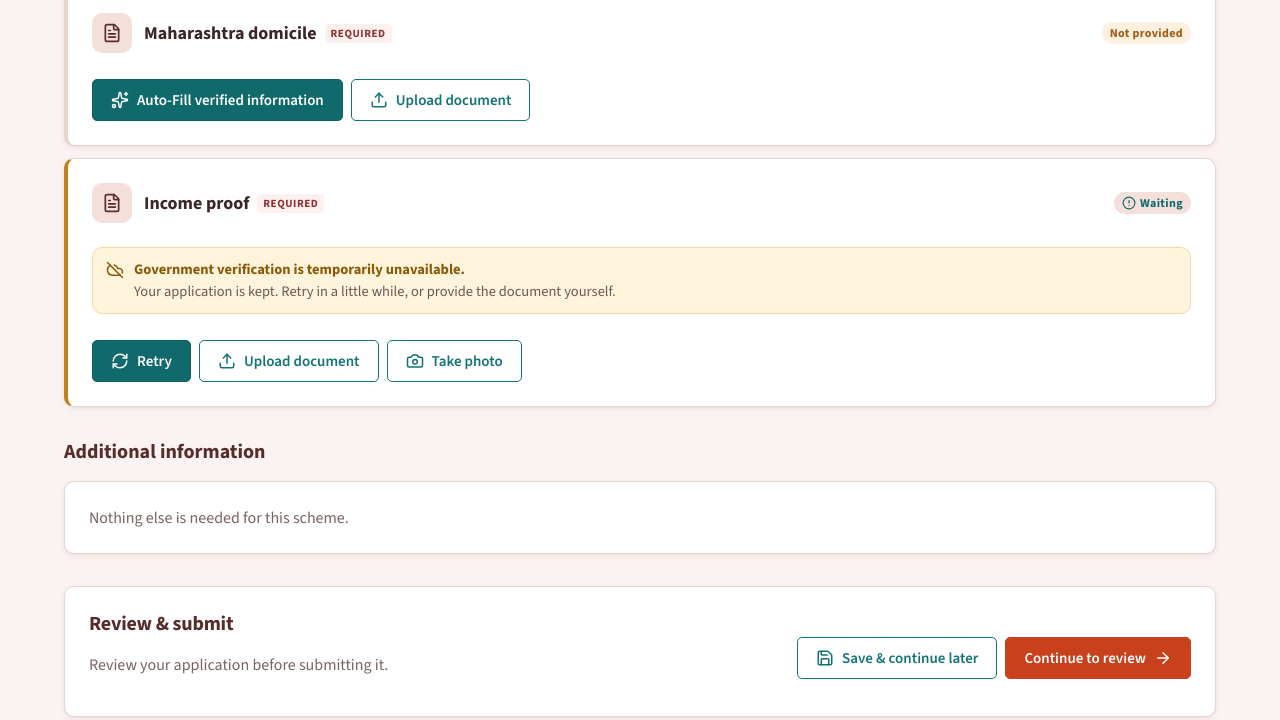
Scenario: ApplicationFormPage › with a loaded application › Phase 6D: a requirement with a prior failed/action-required attempt offers Retry instead of Auto-Fill, and Retry re-runs the same consent-gated flow
(page scrolled)
What coordinates should you click on to do the following:
click the button "Retry"
I would click on:
 (141, 360)
Its box is [92,340,191,382].
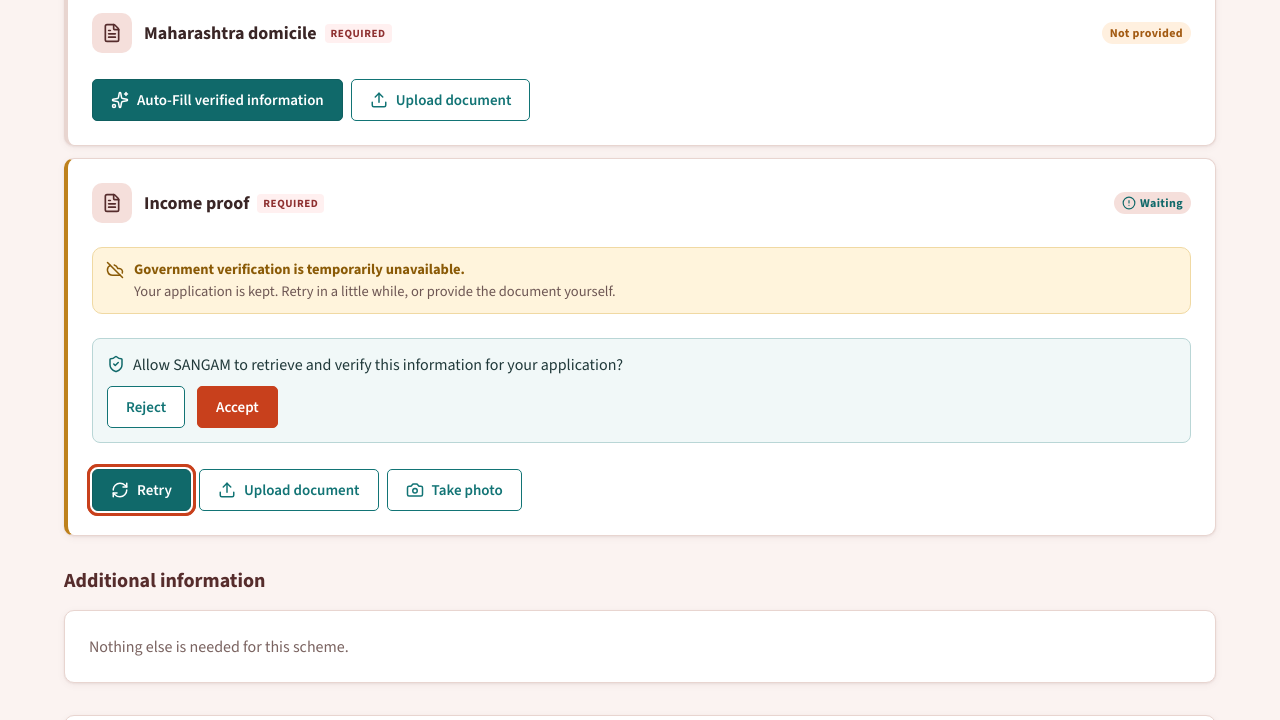
Result: the text "Allow SANGAM to retrieve and verify" is shown at [133,354,623,374]
What coordinates should you click on to do the following:
click the button "Accept"
I would click on:
 (237, 407)
Its box is [197,386,278,428].
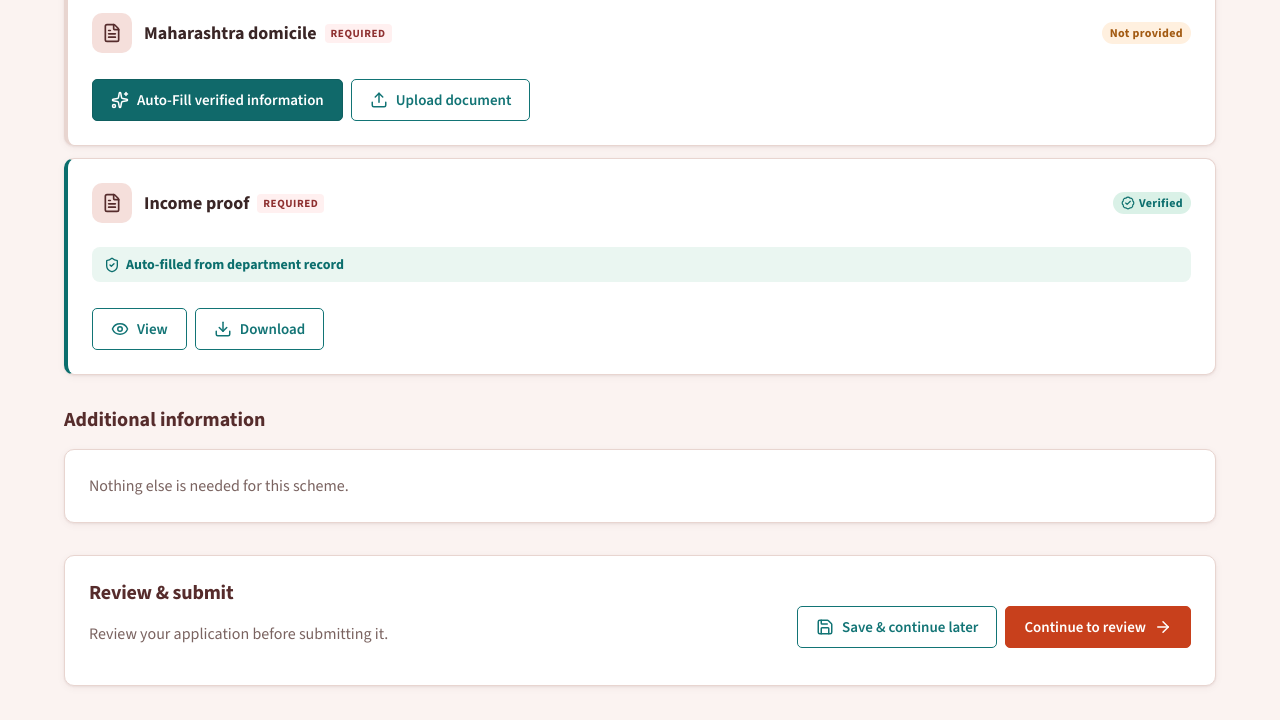
Result: the text "Verified" is shown at [1113,192,1191,214]
